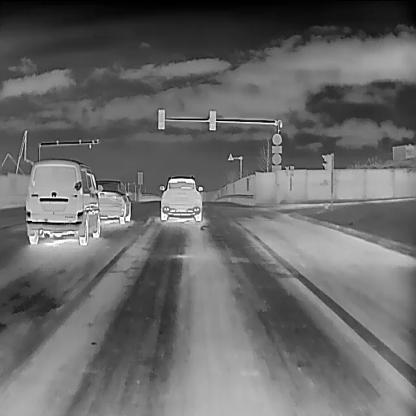car: (25, 156, 102, 245), (158, 173, 203, 221), (94, 178, 131, 223)
